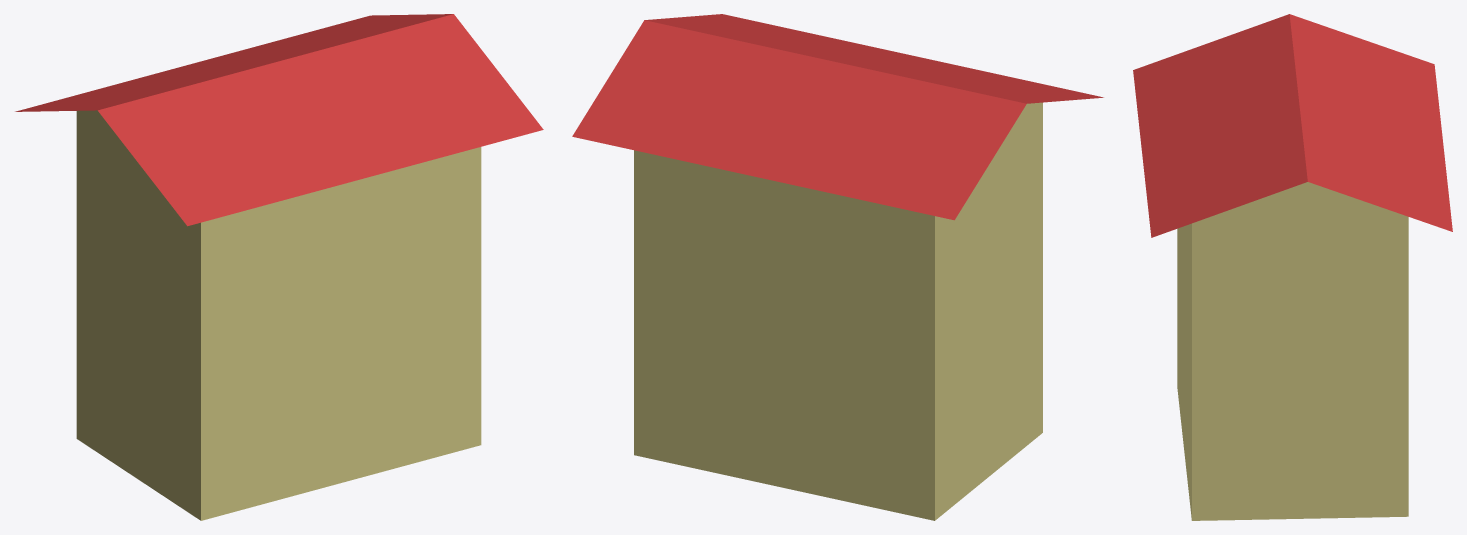
The picture shows the model from 3 angles, left to right: view 1: azimuth 30°, elevation 25°; view 2: azimuth 150°, elevation 25°; view 3: azimuth 270°, elevation 25°; orthographic projection. The views are drawn at different scales.
Bounding box in the file's own units: 7.25 × 5.64 × 6.9.
